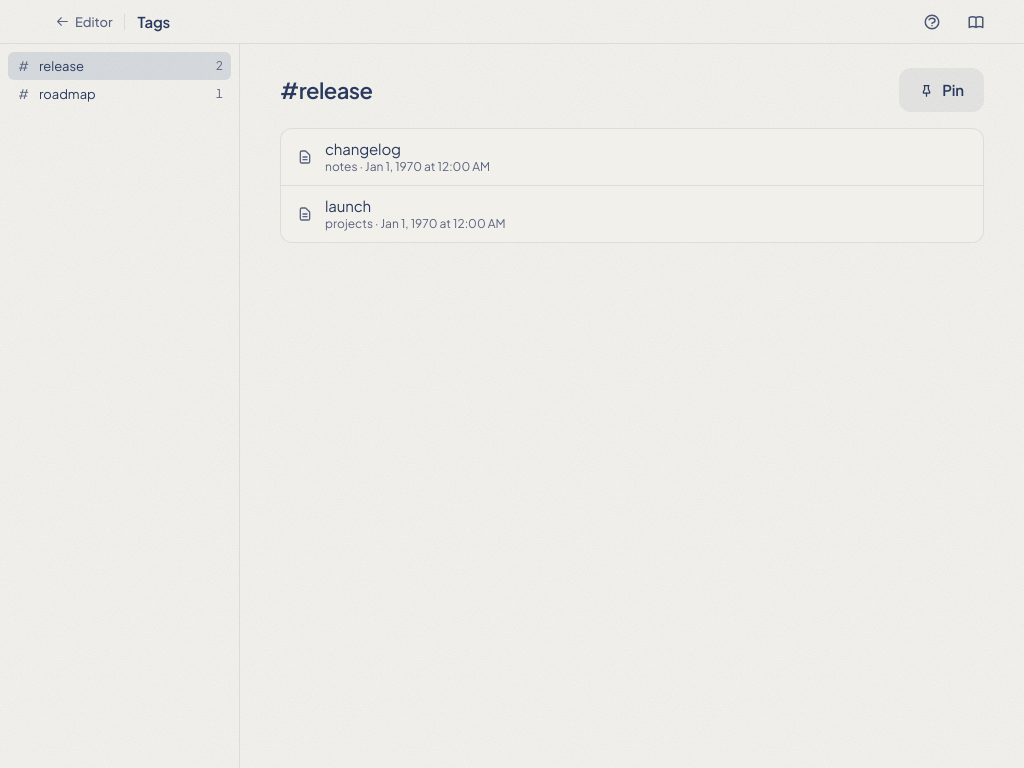
Test case: TagsPage › pins the chosen tag, then reads Pinned
Click the button "Pin" at (942,90), box [899,68,984,112]
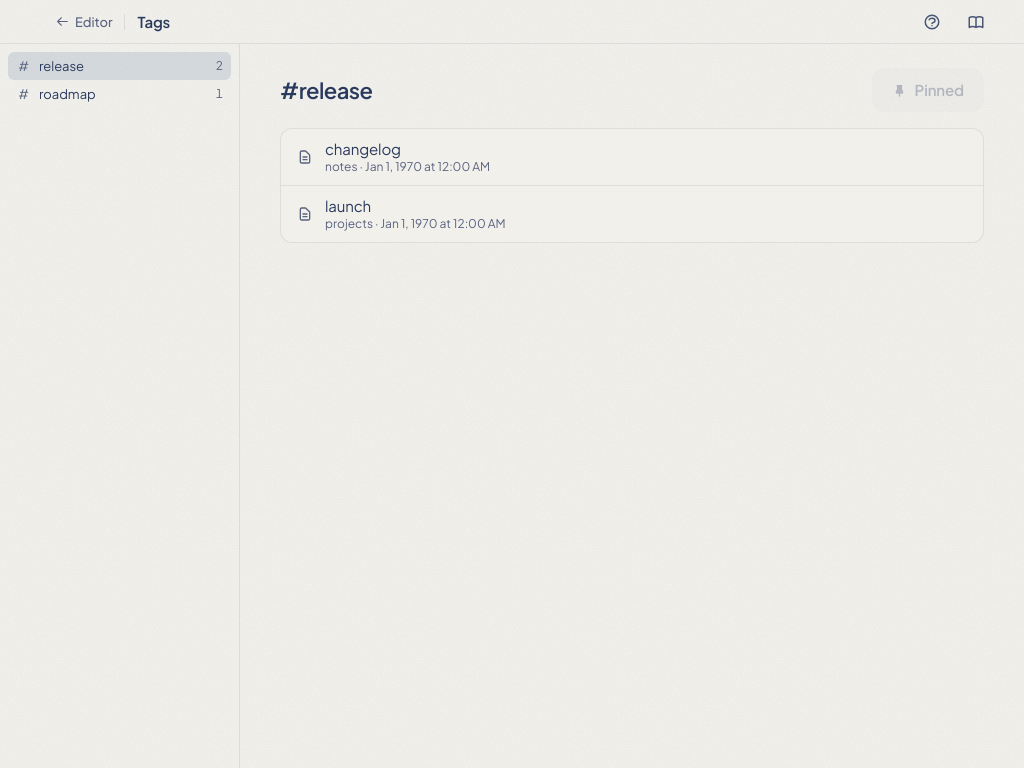
expect the button "Pinned" is disabled: met, box [872,68,984,112]
